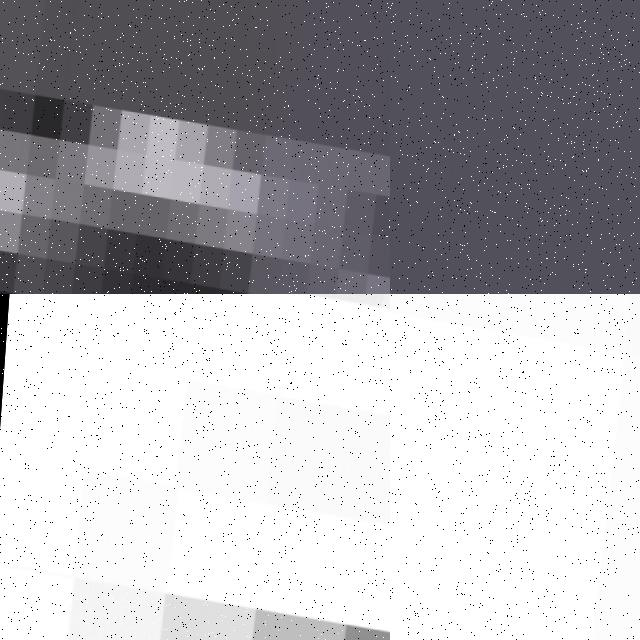0: (0, 0, 390, 294)
drone: (0, 294, 390, 640), (390, 294, 640, 640)
